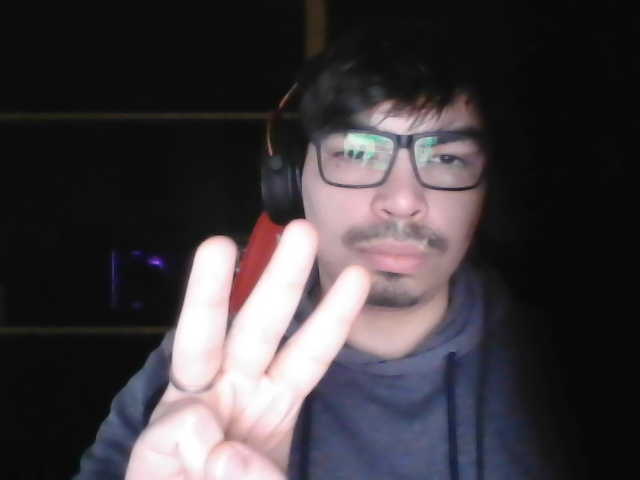three: (119, 215, 381, 480)
